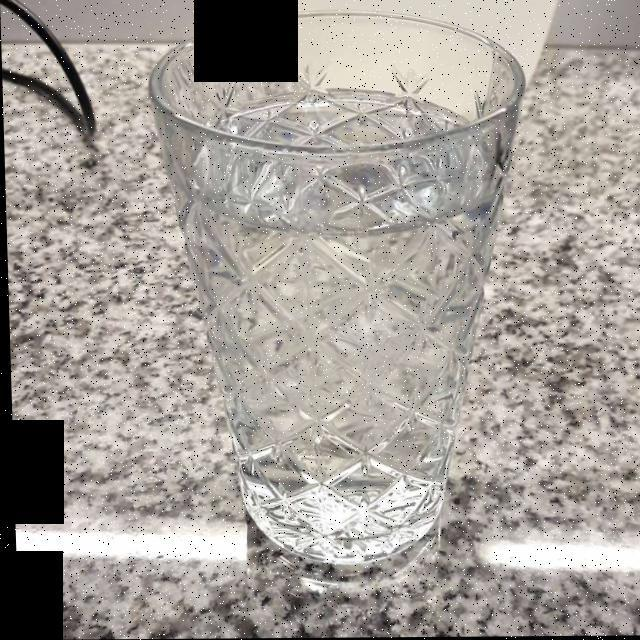water: (190, 99, 486, 556)
